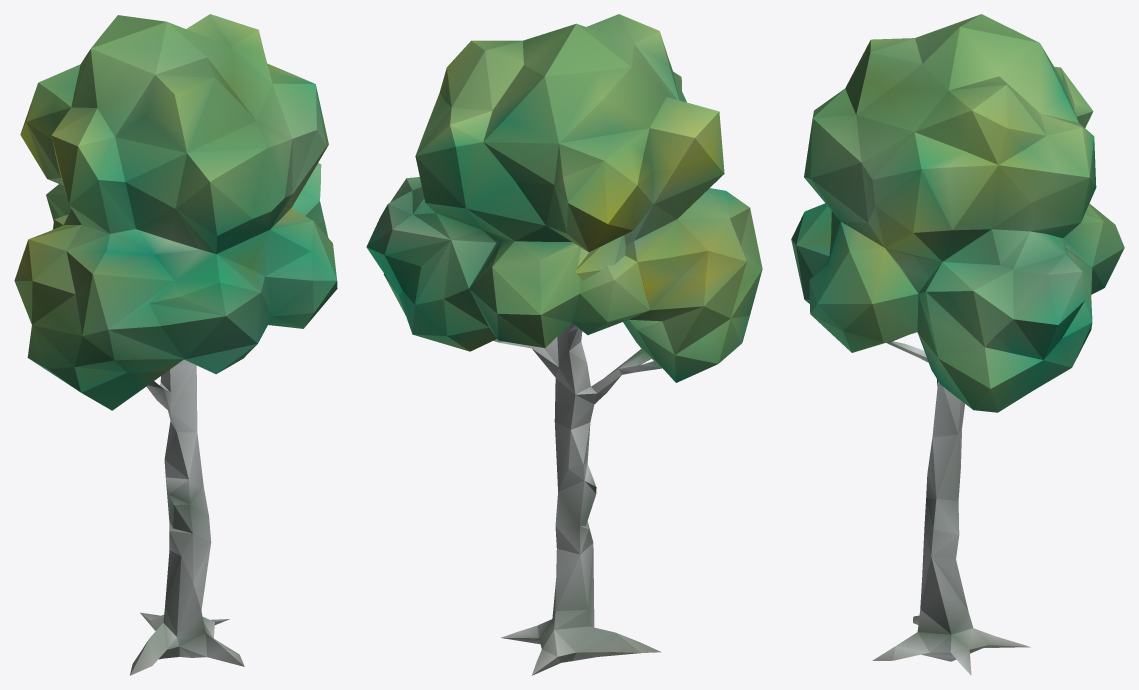
The model's file is summer_birch_lod.glb.
3 renders of one model, left to right at view 1: azimuth 30°, elevation 25°; view 2: azimuth 150°, elevation 25°; view 3: azimuth 270°, elevation 25°, orthographic.
Visible parts, largest first — view 1: summer_birch_lod; view 2: summer_birch_lod; view 3: summer_birch_lod.
Boxes of the visible parts, <box> form: summer_birch_lod: <box>14,14,337,675</box>; summer_birch_lod: <box>366,14,762,675</box>; summer_birch_lod: <box>791,14,1124,675</box>.
Bounding box in the file's own units: 1.13 × 2.09 × 1.
